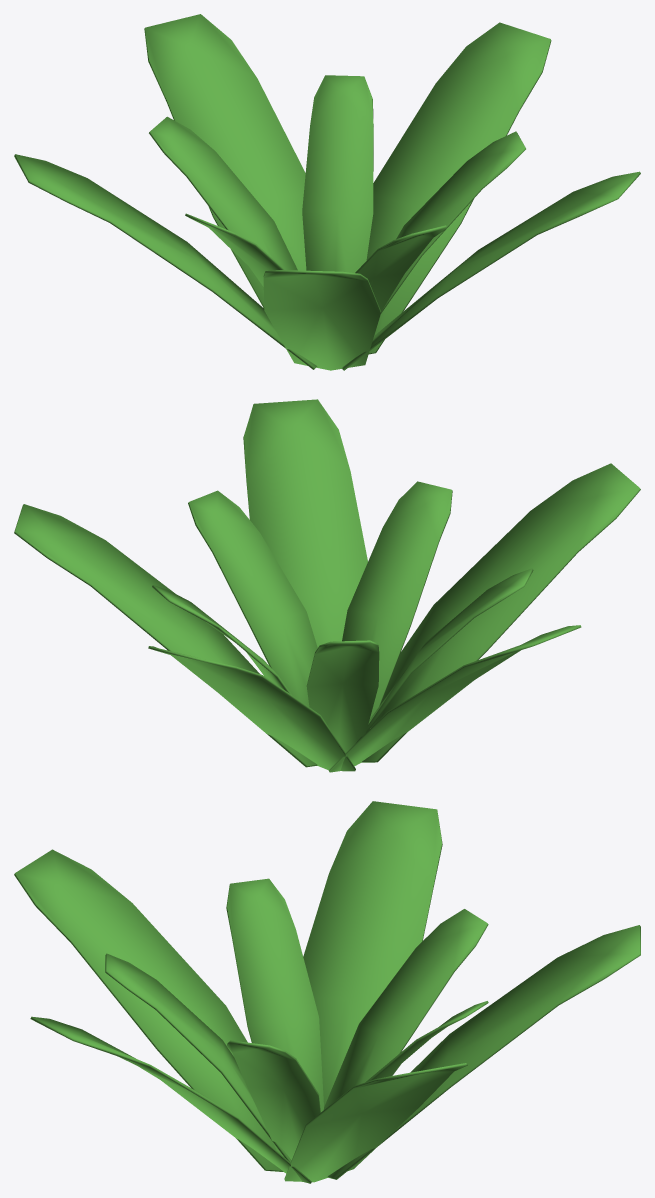
File: Mandragore_2.fbx
3 views of the same model, one above another, from view 1: azimuth 30°, elevation 25°; view 2: azimuth 150°, elevation 25°; view 3: azimuth 270°, elevation 25° (orthographic). The views are drawn at different scales.
Visible parts, largest first — view 1: Mandr_2; view 2: Mandr_2; view 3: Mandr_2.
Boxes of the visible parts, x1=… form: Mandr_2: x1=14, y1=14, x2=640, y2=370; Mandr_2: x1=14, y1=399, x2=640, y2=772; Mandr_2: x1=14, y1=801, x2=640, y2=1183.
Size of the model in its own units: 93.73 by 37.93 by 90.75.
